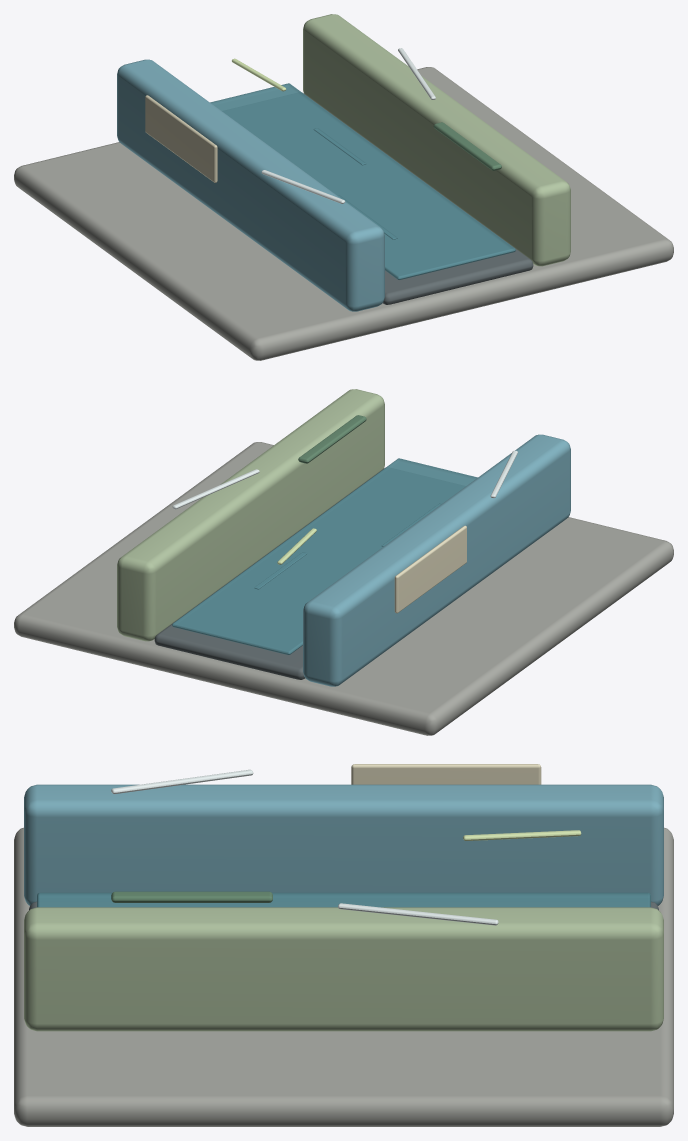
File: painted_urban_drain.glb
The picture shows the model from 3 angles, top to bottom: view 1: azimuth 30°, elevation 25°; view 2: azimuth 150°, elevation 25°; view 3: azimuth 270°, elevation 25°; orthographic projection. The views are drawn at different scales.
Visible parts, largest first — view 1: urban_tile_base, urban_right_wall, urban_left_wall, urban_water, urban_channel_floor, urban_faded_panel, urban_moss_shadow; view 2: urban_tile_base, urban_right_wall, urban_left_wall, urban_water, urban_channel_floor, urban_faded_panel, urban_moss_shadow; view 3: urban_right_wall, urban_left_wall, urban_tile_base, urban_water, urban_faded_panel, urban_moss_shadow, urban_painted_flow_line_1, urban_painted_flow_line_0, urban_painted_flow_line_2.
Part boxes in pixels (left/top/right/bottom): urban_tile_base: left=14, top=67, right=673, bottom=360; urban_right_wall: left=303, top=14, right=570, bottom=266; urban_left_wall: left=117, top=59, right=384, bottom=311; urban_water: left=210, top=83, right=515, bottom=279; urban_channel_floor: left=302, top=92, right=533, bottom=304; urban_faded_panel: left=145, top=95, right=217, bottom=182; urban_moss_shadow: left=433, top=122, right=501, bottom=170; urban_tile_base: left=14, top=442, right=673, bottom=735; urban_right_wall: left=117, top=389, right=384, bottom=641; urban_left_wall: left=303, top=434, right=570, bottom=686; urban_water: left=172, top=458, right=477, bottom=654; urban_channel_floor: left=154, top=467, right=385, bottom=679; urban_faded_panel: left=394, top=525, right=466, bottom=613; urban_moss_shadow: left=298, top=415, right=366, bottom=463; urban_right_wall: left=24, top=907, right=663, bottom=1031; urban_left_wall: left=24, top=784, right=663, bottom=905; urban_tile_base: left=14, top=827, right=673, bottom=1126; urban_water: left=37, top=892, right=650, bottom=907; urban_faded_panel: left=351, top=764, right=541, bottom=784; urban_moss_shadow: left=111, top=891, right=272, bottom=902; urban_painted_flow_line_1: left=338, top=903, right=498, bottom=925; urban_painted_flow_line_0: left=111, top=769, right=253, bottom=794; urban_painted_flow_line_2: left=463, top=830, right=581, bottom=840.
Size of the model in its own units: 4 by 0.975 by 4.
